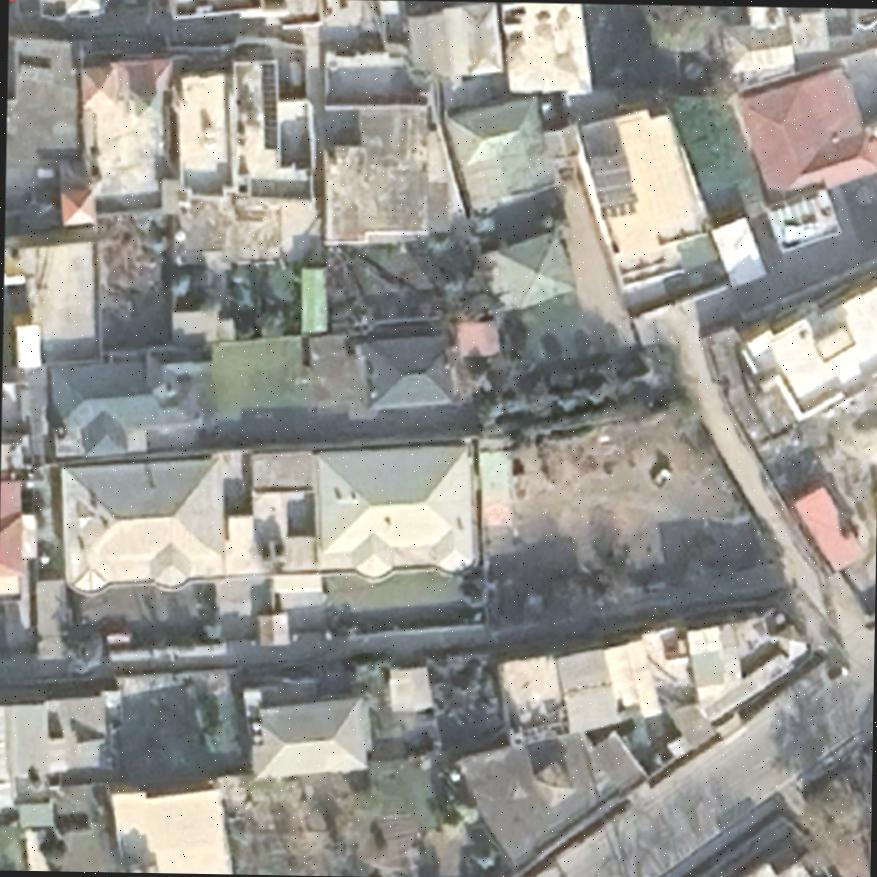Solarpanel: (254, 55, 282, 151)
